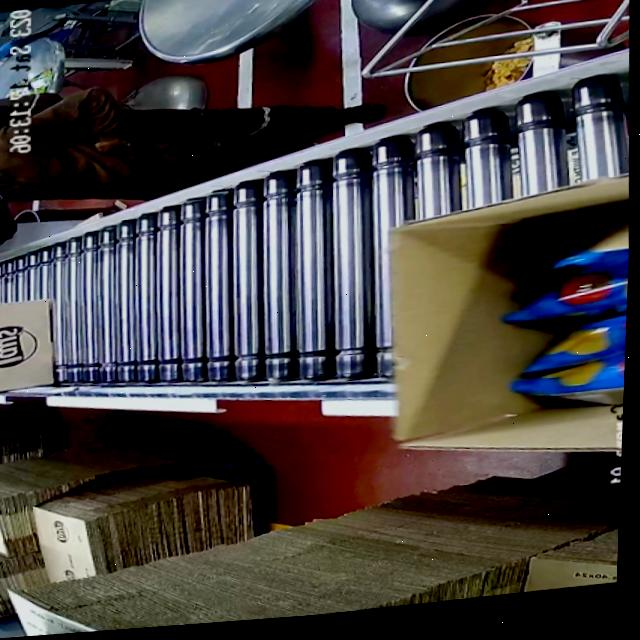PAPRIKA: (491, 203, 631, 452)
